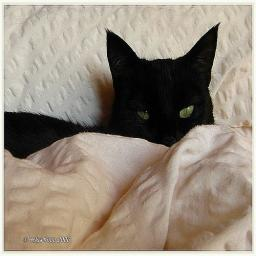catnose: (158, 136, 178, 147)
